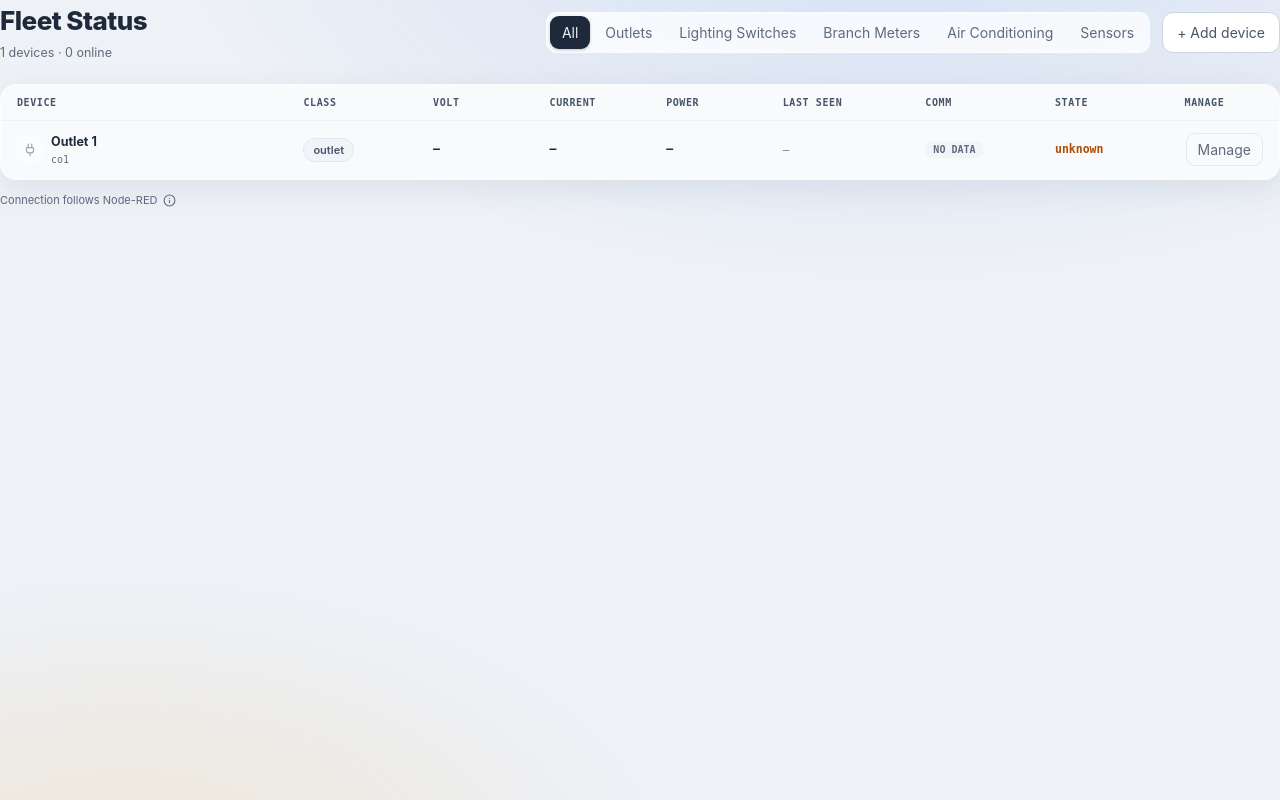
Test: DevicesView › closes the panel when its Close button is clicked
Click the button with aria-label "Manage Outlet 1": [1224, 150] box x1=1186 y1=133 x2=1263 y2=166
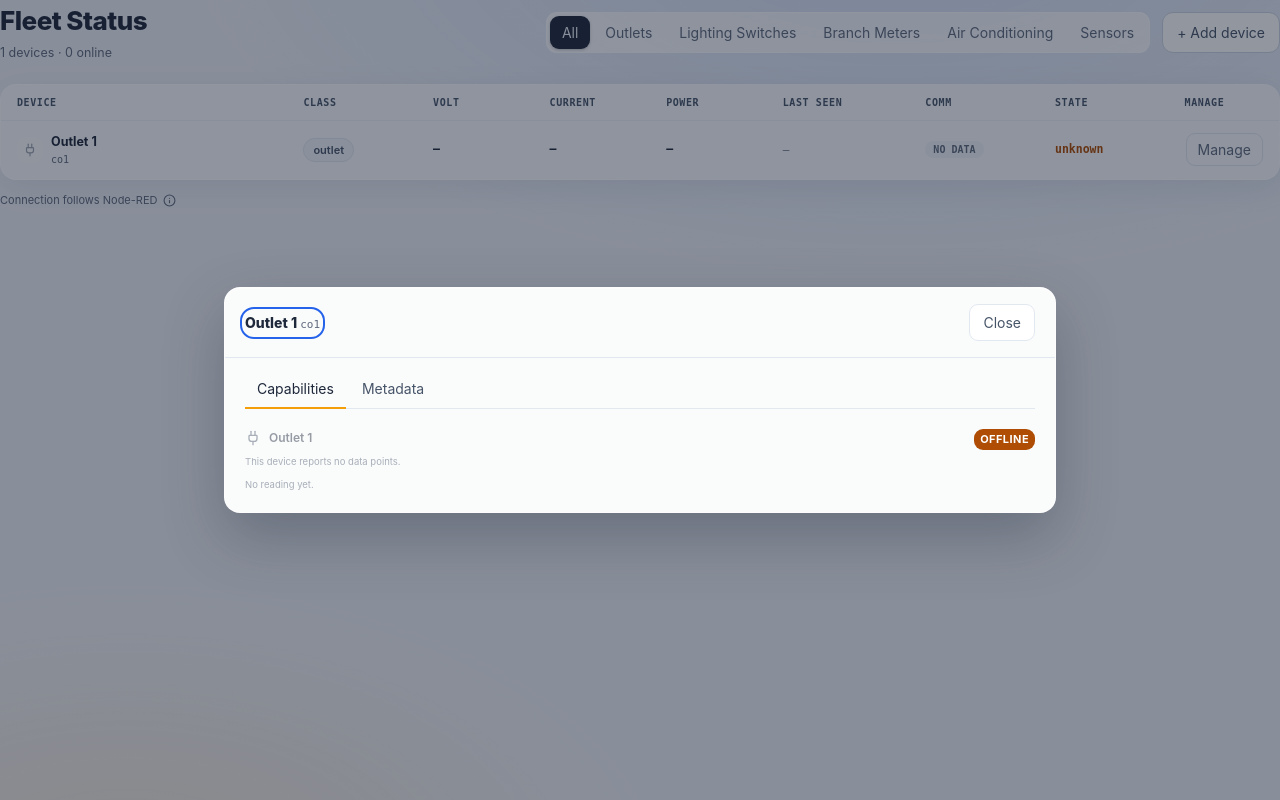
Expected: the dialog is shown, x1=224 y1=287 x2=1056 y2=513
Click the button "Close": [1002, 323] box x1=969 y1=304 x2=1035 y2=341
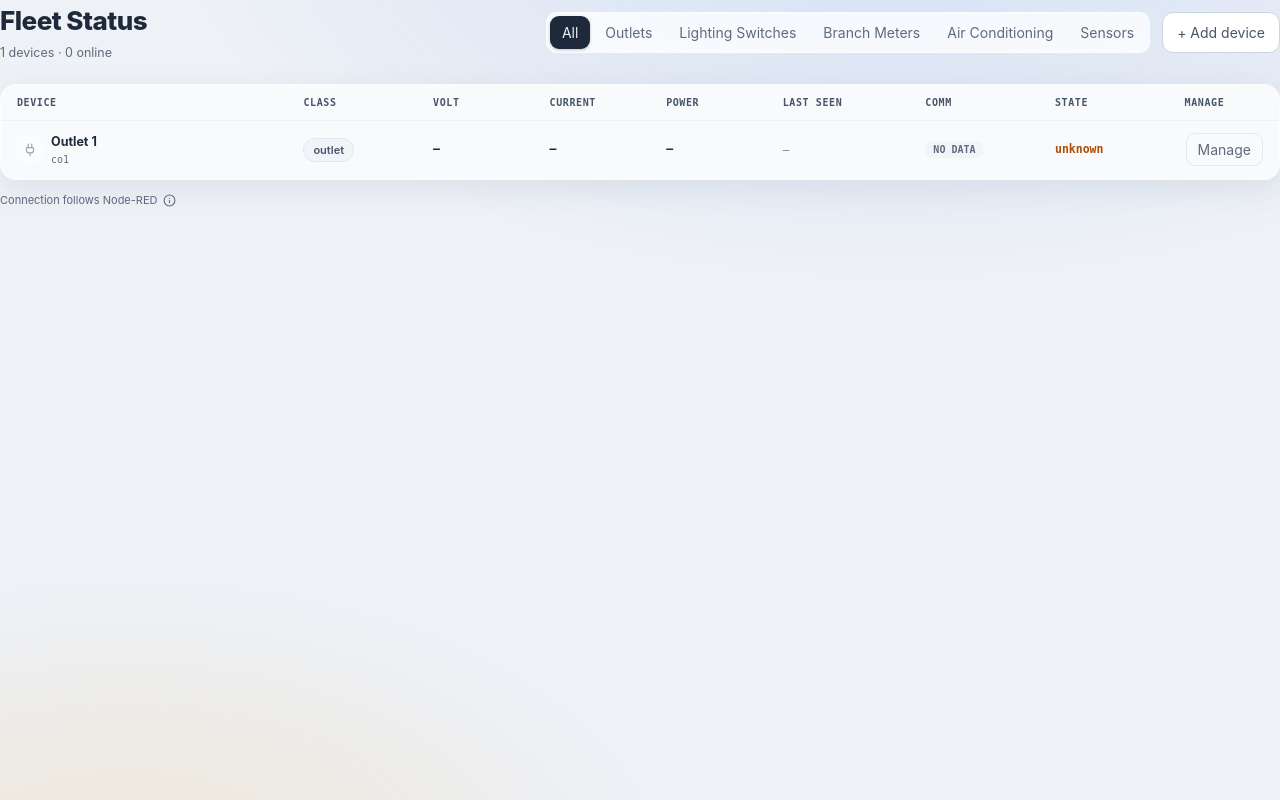
Expected: the dialog is gone
